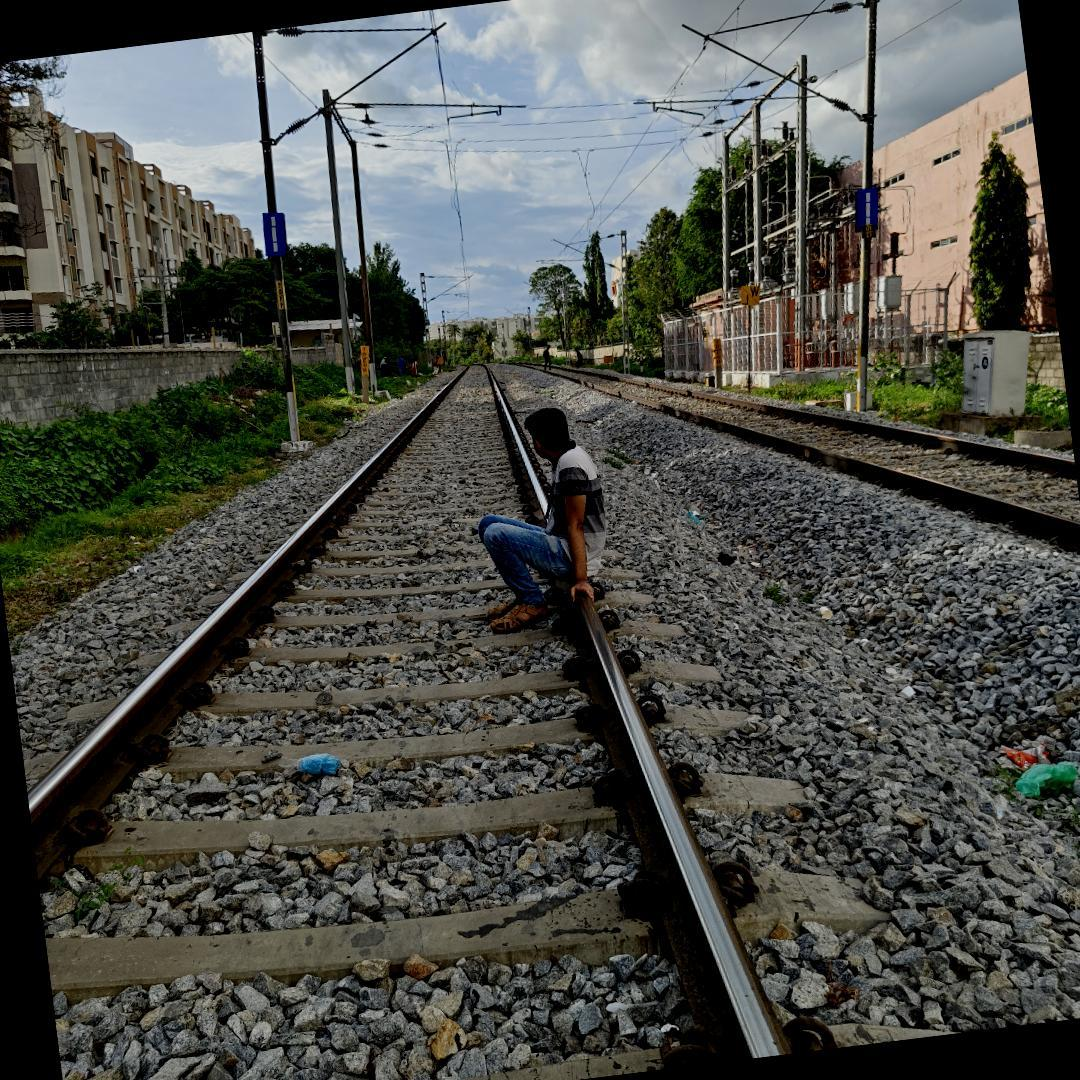sitting: (456, 404, 628, 644)
